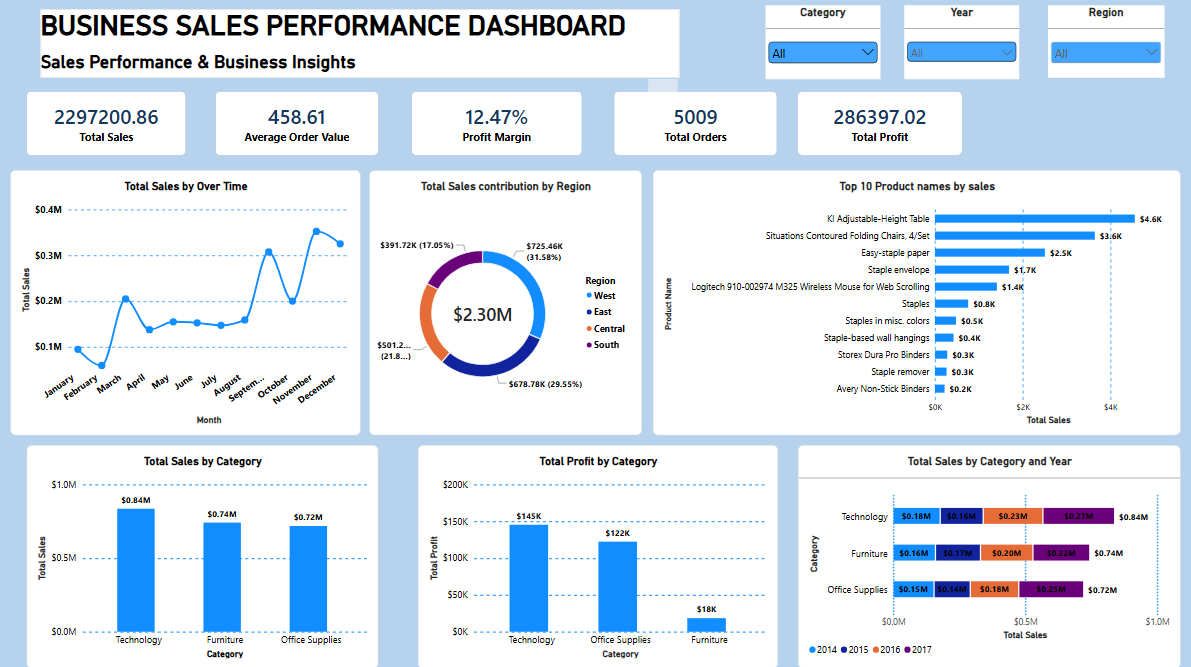

Layout of this report page (visuals, bound fields, positions):
{"tool":"powerbi","page":{"name":"Page 1","canvas":[1920,1080],"ordinal":0},"visuals":[{"type":"textbox","title":"BUSINESS SALES PERFORMANCE DASHBOARD","box":[68,24,1022,110],"z":0},{"type":"cardVisual","fields":{"Data":["DateTable.Total Revenue"]},"box":[46,156,254,102],"z":1000},{"type":"cardVisual","fields":{"Data":["DateTable.Average Order Value"]},"box":[348,156,260,102],"z":2000},{"type":"cardVisual","fields":{"Data":["DateTable.Profit Margin"]},"box":[662,156,272,102],"z":3000},{"type":"cardVisual","fields":{"Data":["DateTable.Total Orders"]},"box":[986,156,260,102],"z":4000},{"type":"cardVisual","fields":{"Data":["DateTable.Total Profit"]},"box":[1280,156,262,102],"z":5000},{"type":"columnChart","title":"Total Sales by Category","fields":{"Category":["Superstores_cleaned.Category"],"Y":["DateTable.Total Sales"]},"box":[46,722,562,358],"z":6000},{"type":"donutChart","title":"Total Sales contribution by Region","fields":{"Category":["Superstores_cleaned.Region"],"Y":["DateTable.Total Sales"]},"box":[594,282,436,424],"z":7000},{"type":"slicer","title":"Year","fields":{"Values":["DateTable.Year"]},"box":[1450,18,184,118],"z":8000},{"type":"slicer","title":"Category","fields":{"Values":["Superstores_cleaned.Category"]},"box":[1228,18,184,118],"z":9000},{"type":"slicer","title":"Region","fields":{"Values":["Superstores_cleaned.Region"]},"box":[1680,18,186,116],"z":10000},{"type":"lineChart","title":"Total Sales by Over Time","fields":{"Category":["DateTable.Month"],"Y":["DateTable.Total Sales"]},"box":[20,282,560,424],"z":11000},{"type":"clusteredBarChart","title":"Top 10 Product names by sales","fields":{"Category":["Superstores_cleaned.Product Name"],"Y":["DateTable.Total Sales"]},"box":[1048,282,844,424],"z":12000},{"type":"columnChart","title":"Total Profit by Category","fields":{"Category":["Superstores_cleaned.Category"],"Y":["DateTable.Total Profit"]},"box":[672,722,576,358],"z":12001},{"type":"barChart","fields":{"Category":["Superstores_cleaned.Category"],"Series":["DateTable.Year"],"Y":["DateTable.Total Sales"]},"box":[1280,722,612,358],"z":12002}]}

Visuals, with their boxes in screenshot pixels (x1, y1, x2, y2), scaled from the page's 1920x1080 canvas onto the 1191x667 screenshot:
"BUSINESS SALES PERFORMANCE DASHBOARD" textbox: <box>42,15,676,83</box>
cardVisual - DateTable.Total Revenue: <box>29,96,186,159</box>
cardVisual - DateTable.Average Order Value: <box>216,96,377,159</box>
cardVisual - DateTable.Profit Margin: <box>411,96,579,159</box>
cardVisual - DateTable.Total Orders: <box>612,96,773,159</box>
cardVisual - DateTable.Total Profit: <box>794,96,957,159</box>
"Total Sales by Category" columnChart: <box>29,446,377,666</box>
"Total Sales contribution by Region" donutChart: <box>368,174,639,436</box>
"Year" slicer: <box>899,11,1014,84</box>
"Category" slicer: <box>762,11,876,84</box>
"Region" slicer: <box>1042,11,1158,83</box>
"Total Sales by Over Time" lineChart: <box>12,174,360,436</box>
"Top 10 Product names by sales" clusteredBarChart: <box>650,174,1174,436</box>
"Total Profit by Category" columnChart: <box>417,446,774,666</box>
barChart - Superstores_cleaned.Category x DateTable.Year: <box>794,446,1174,666</box>
